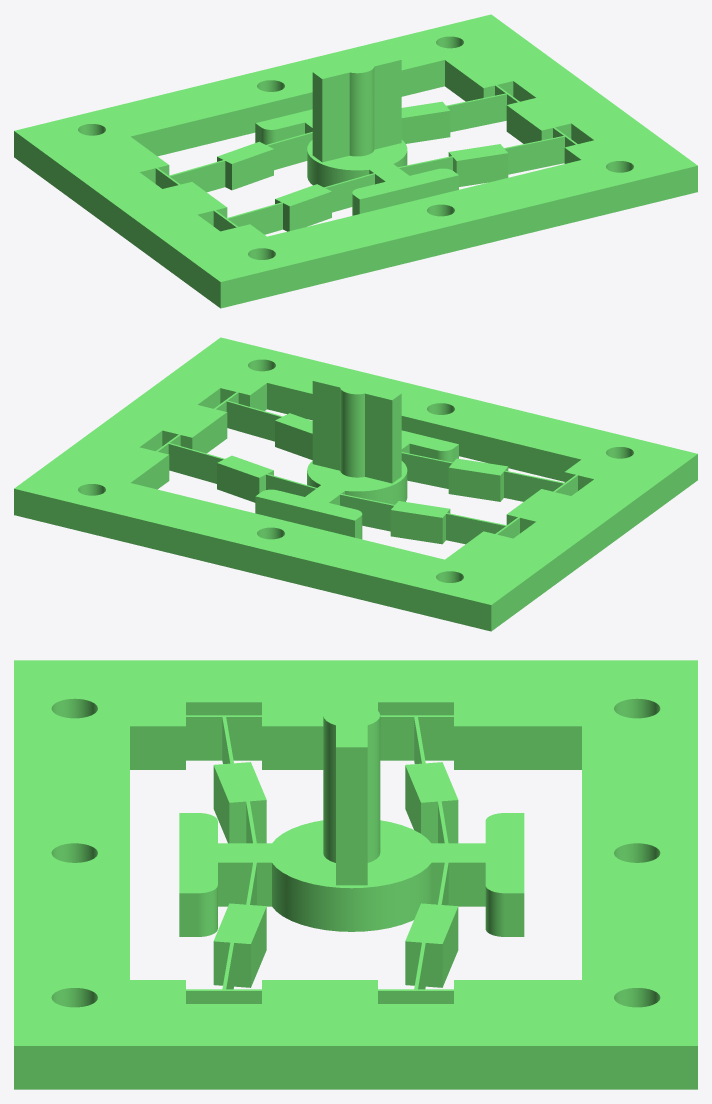
The model's file is Compliant-MODv4 v1.fbx.
3 renders of one model, top to bottom at view 1: azimuth 30°, elevation 25°; view 2: azimuth 150°, elevation 25°; view 3: azimuth 270°, elevation 25°, orthographic. The views are drawn at different scales.
Parts seen in each view (by area): view 1: Body1; view 2: Body1; view 3: Body1.
Part boxes in pixels (x1,y1,x2,y2): Body1: (14, 14, 697, 308); Body1: (14, 337, 697, 631); Body1: (14, 660, 697, 1089).
Size of the model in its own units: 120 by 26.35 by 90.
